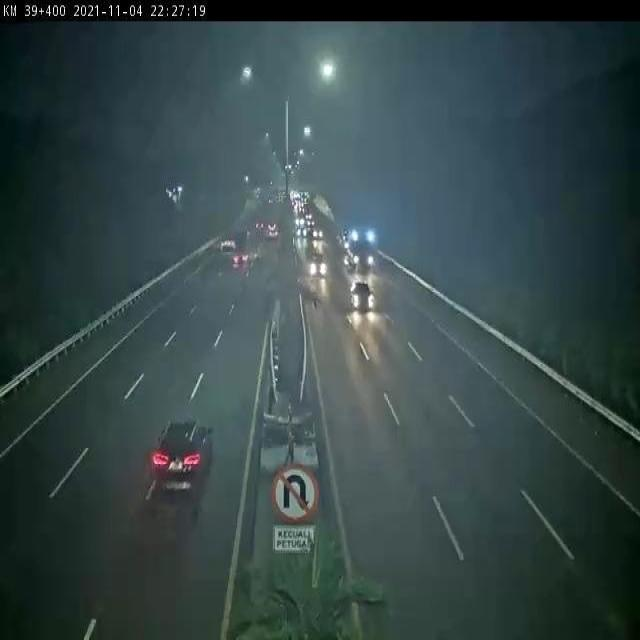Bus: (338, 212, 390, 274)
Car: (142, 412, 220, 516), (344, 278, 382, 314), (304, 251, 328, 287), (260, 214, 281, 242), (232, 248, 252, 272)
